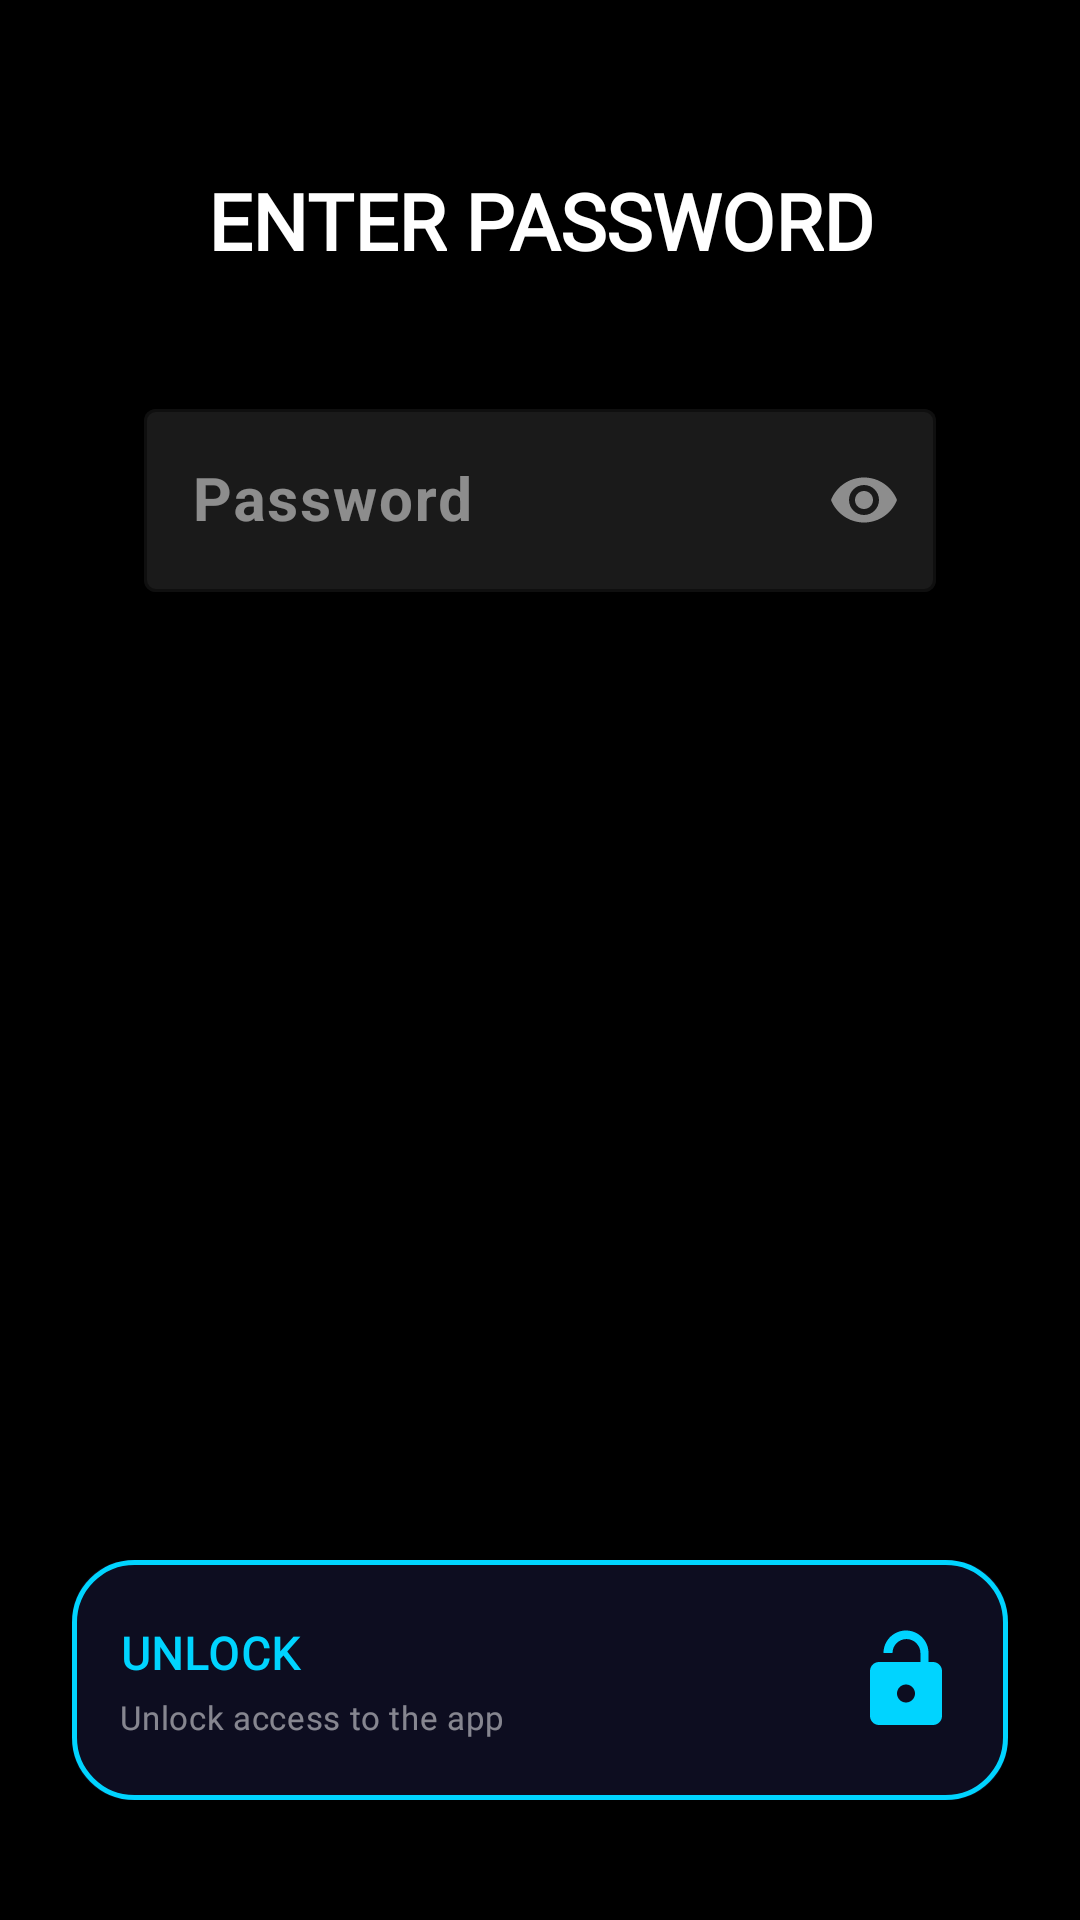

Where icons sit on this 1080w x 1920h app screen, as {"x1": x1, "y1": y1, "x2": x2, "y2": y2}:
lock open: {"x1": 870, "y1": 1630, "x2": 942, "y2": 1725}
